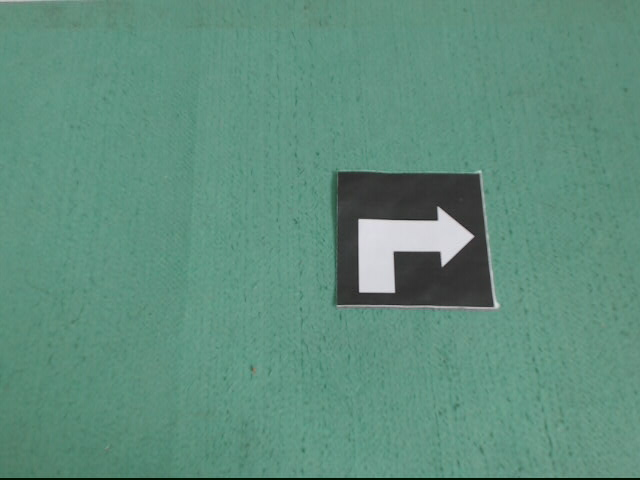right: (338, 170, 495, 309)
